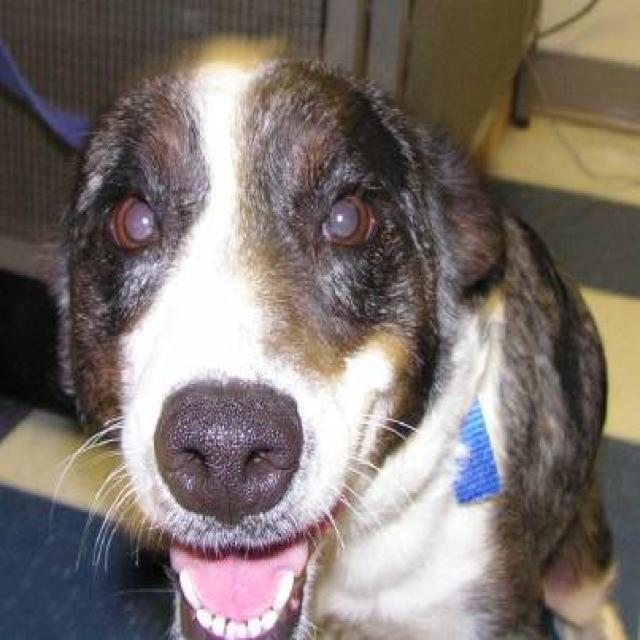dogs: (47, 26, 624, 640)
